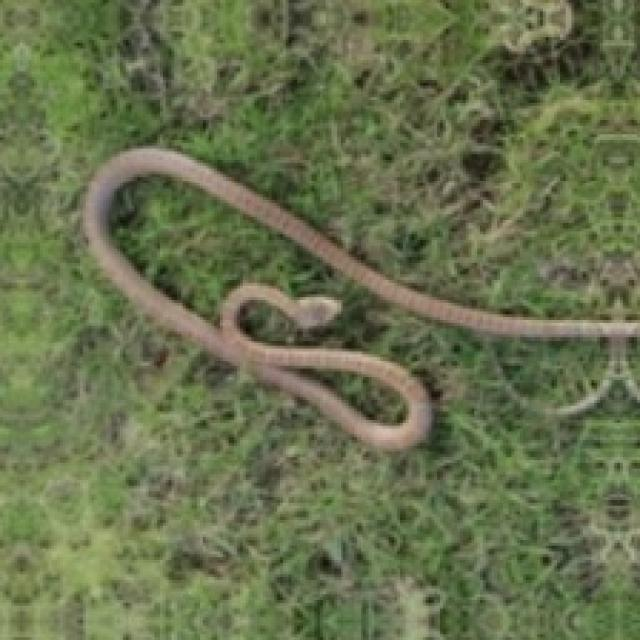paradise tree snake: (83, 149, 637, 449)
